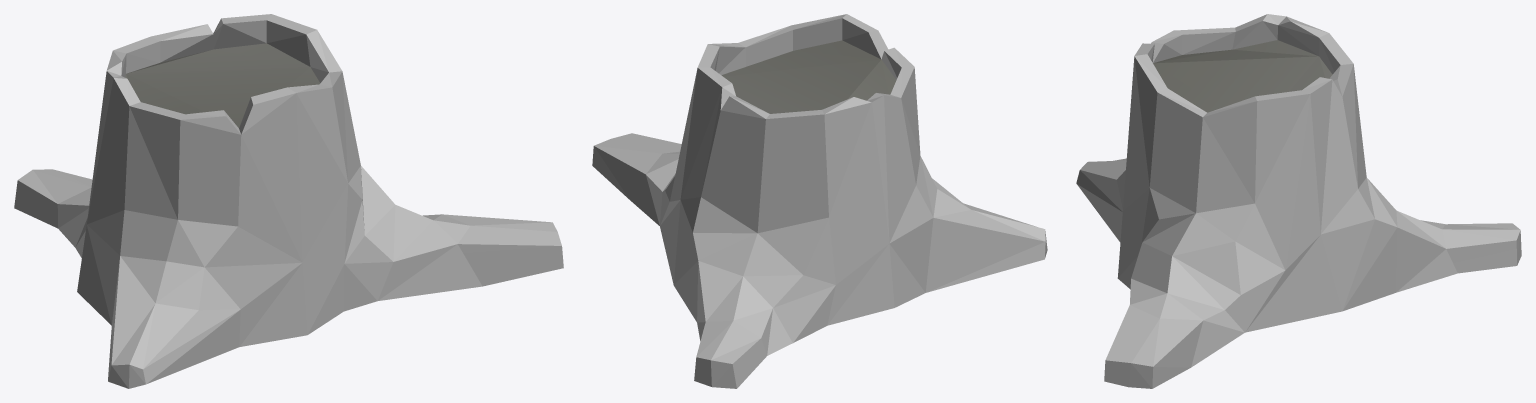
The model's file is Stump_01.fbx.
3 renders of one model, left to right at view 1: azimuth 30°, elevation 25°; view 2: azimuth 150°, elevation 25°; view 3: azimuth 270°, elevation 25°, orthographic. The views are drawn at different scales.
Visible parts, largest first — view 1: Stump_01; view 2: Stump_01; view 3: Stump_01.
Part boxes in pixels (left/top/right/bottom): Stump_01: left=14, top=14, right=563, bottom=388; Stump_01: left=592, top=14, right=1047, bottom=388; Stump_01: left=1076, top=14, right=1521, bottom=388.
Bounding box in the file's own units: 1.51 × 0.7482 × 1.32.
